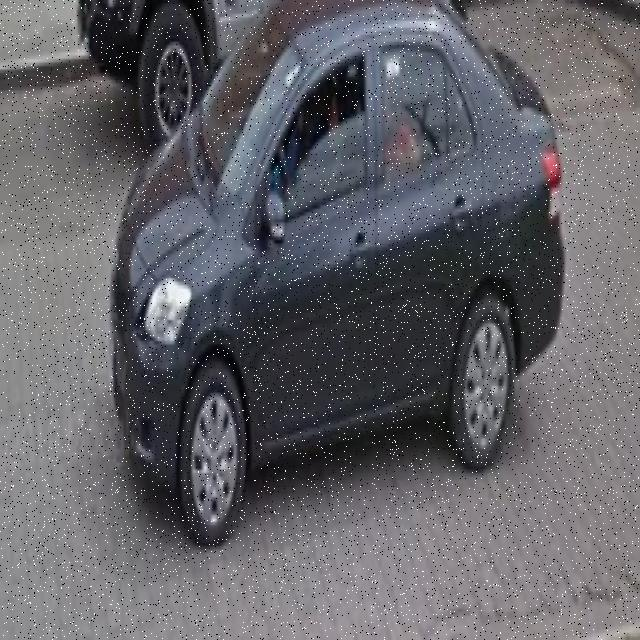cars: (115, 8, 563, 526)
